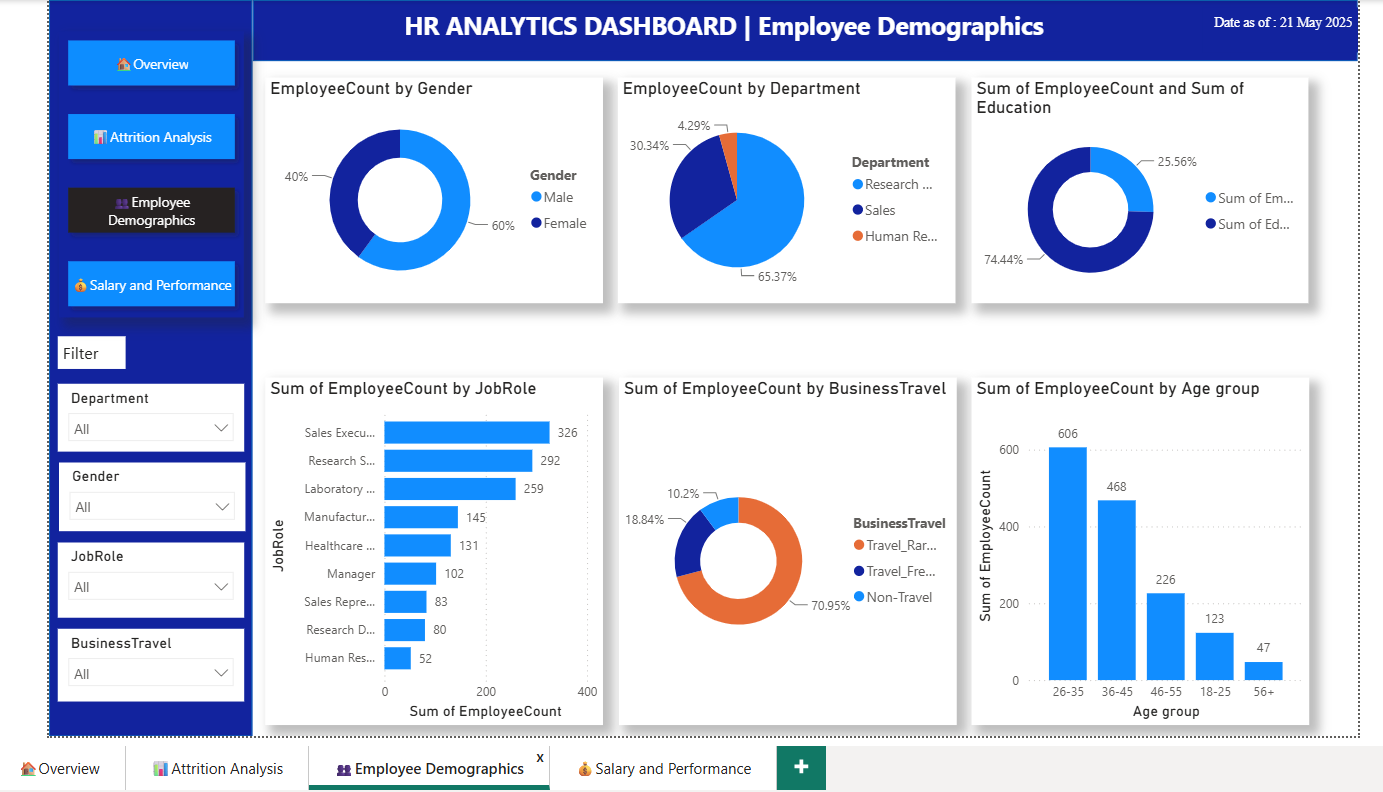

The dashboard page shown, as its layout file describes it:
{"tool":"powerbi","page":{"name":"👥Employee Demographics","canvas":[1280,720],"ordinal":2},"visuals":[{"type":"shape","box":[0,0,199,720.4],"z":0},{"type":"shape","box":[199,0,1081,59.9],"z":1000},{"type":"textbox","box":[312.9,4.1,694.3,46.7],"z":2000},{"type":"slicer","fields":{"Values":["hr_analytics staging_hr.Department"]},"box":[8.6,375.4,182.2,66],"z":7000},{"type":"slicer","fields":{"Values":["hr_analytics staging_hr.Gender"]},"box":[9.8,452.4,182.2,67.3],"z":8000},{"type":"slicer","fields":{"Values":["hr_analytics staging_hr.JobRole"]},"box":[8.6,530.7,182.2,73.4],"z":9000},{"type":"slicer","fields":{"Values":["hr_analytics staging_hr.BusinessTravel"]},"box":[8.6,615.1,182.2,70.9],"z":10000},{"type":"textbox","box":[1128.4,7.3,151.6,44],"z":11000},{"type":"textbox","box":[8.6,328.9,66,31.8],"z":12000},{"type":"donutChart","title":"EmployeeCount by Gender","fields":{"Y":["Sum(hr_analytics staging_hr.EmployeeCount)"],"Category":["hr_analytics staging_hr.Gender"]},"box":[211.3,75.5,330,220.9],"z":13000},{"type":"pieChart","title":"EmployeeCount by Department","fields":{"Y":["Sum(hr_analytics staging_hr.EmployeeCount)"],"Category":["hr_analytics staging_hr.Department"]},"box":[556.8,75.5,330.7,220.9],"z":14000},{"type":"donutChart","fields":{"Y":["Sum(hr_analytics staging_hr.EmployeeCount)","Sum(hr_analytics staging_hr.Education)"]},"box":[902.9,75.5,329.3,220.9],"z":15000},{"type":"barChart","fields":{"Y":["Sum(hr_analytics staging_hr.EmployeeCount)"],"Category":["hr_analytics staging_hr.JobRole"]},"box":[211.3,369.1,330,340],"z":16000},{"type":"donutChart","fields":{"Category":["hr_analytics staging_hr.BusinessTravel"],"Y":["Sum(hr_analytics staging_hr.EmployeeCount)"]},"box":[557.1,369.1,330,340],"z":17000},{"type":"columnChart","fields":{"Y":["Sum(hr_analytics staging_hr.EmployeeCount)"],"Category":["hr_analytics staging_hr.Age group"]},"box":[902.9,369.1,330,340],"z":18000},{"type":"pageNavigator","box":[9.6,30.2,181.1,279.9],"z":18001}]}

Visuals, with their boxes on the page's 1280x720 design canvas (x1, y1, x2, y2). These are canvas units, not pixel positions in the 1383x792 screenshot, which may show the page scaled, cropped or inside an application window:
shape: bbox=[0, 0, 199, 720]
shape: bbox=[199, 0, 1280, 60]
textbox: bbox=[313, 4, 1007, 51]
slicer - hr_analytics staging_hr.Department: bbox=[9, 375, 191, 441]
slicer - hr_analytics staging_hr.Gender: bbox=[10, 452, 192, 520]
slicer - hr_analytics staging_hr.JobRole: bbox=[9, 531, 191, 604]
slicer - hr_analytics staging_hr.BusinessTravel: bbox=[9, 615, 191, 686]
textbox: bbox=[1128, 7, 1280, 51]
textbox: bbox=[9, 329, 75, 361]
"EmployeeCount by Gender" donutChart: bbox=[211, 76, 541, 296]
"EmployeeCount by Department" pieChart: bbox=[557, 76, 888, 296]
donutChart - Sum(hr_analytics staging_hr.EmployeeCount) x Sum(hr_analytics staging_hr.Education): bbox=[903, 76, 1232, 296]
barChart - Sum(hr_analytics staging_hr.EmployeeCount) x hr_analytics staging_hr.JobRole: bbox=[211, 369, 541, 709]
donutChart - hr_analytics staging_hr.BusinessTravel x Sum(hr_analytics staging_hr.EmployeeCount): bbox=[557, 369, 887, 709]
columnChart - Sum(hr_analytics staging_hr.EmployeeCount) x hr_analytics staging_hr.Age group: bbox=[903, 369, 1233, 709]
pageNavigator: bbox=[10, 30, 191, 310]
